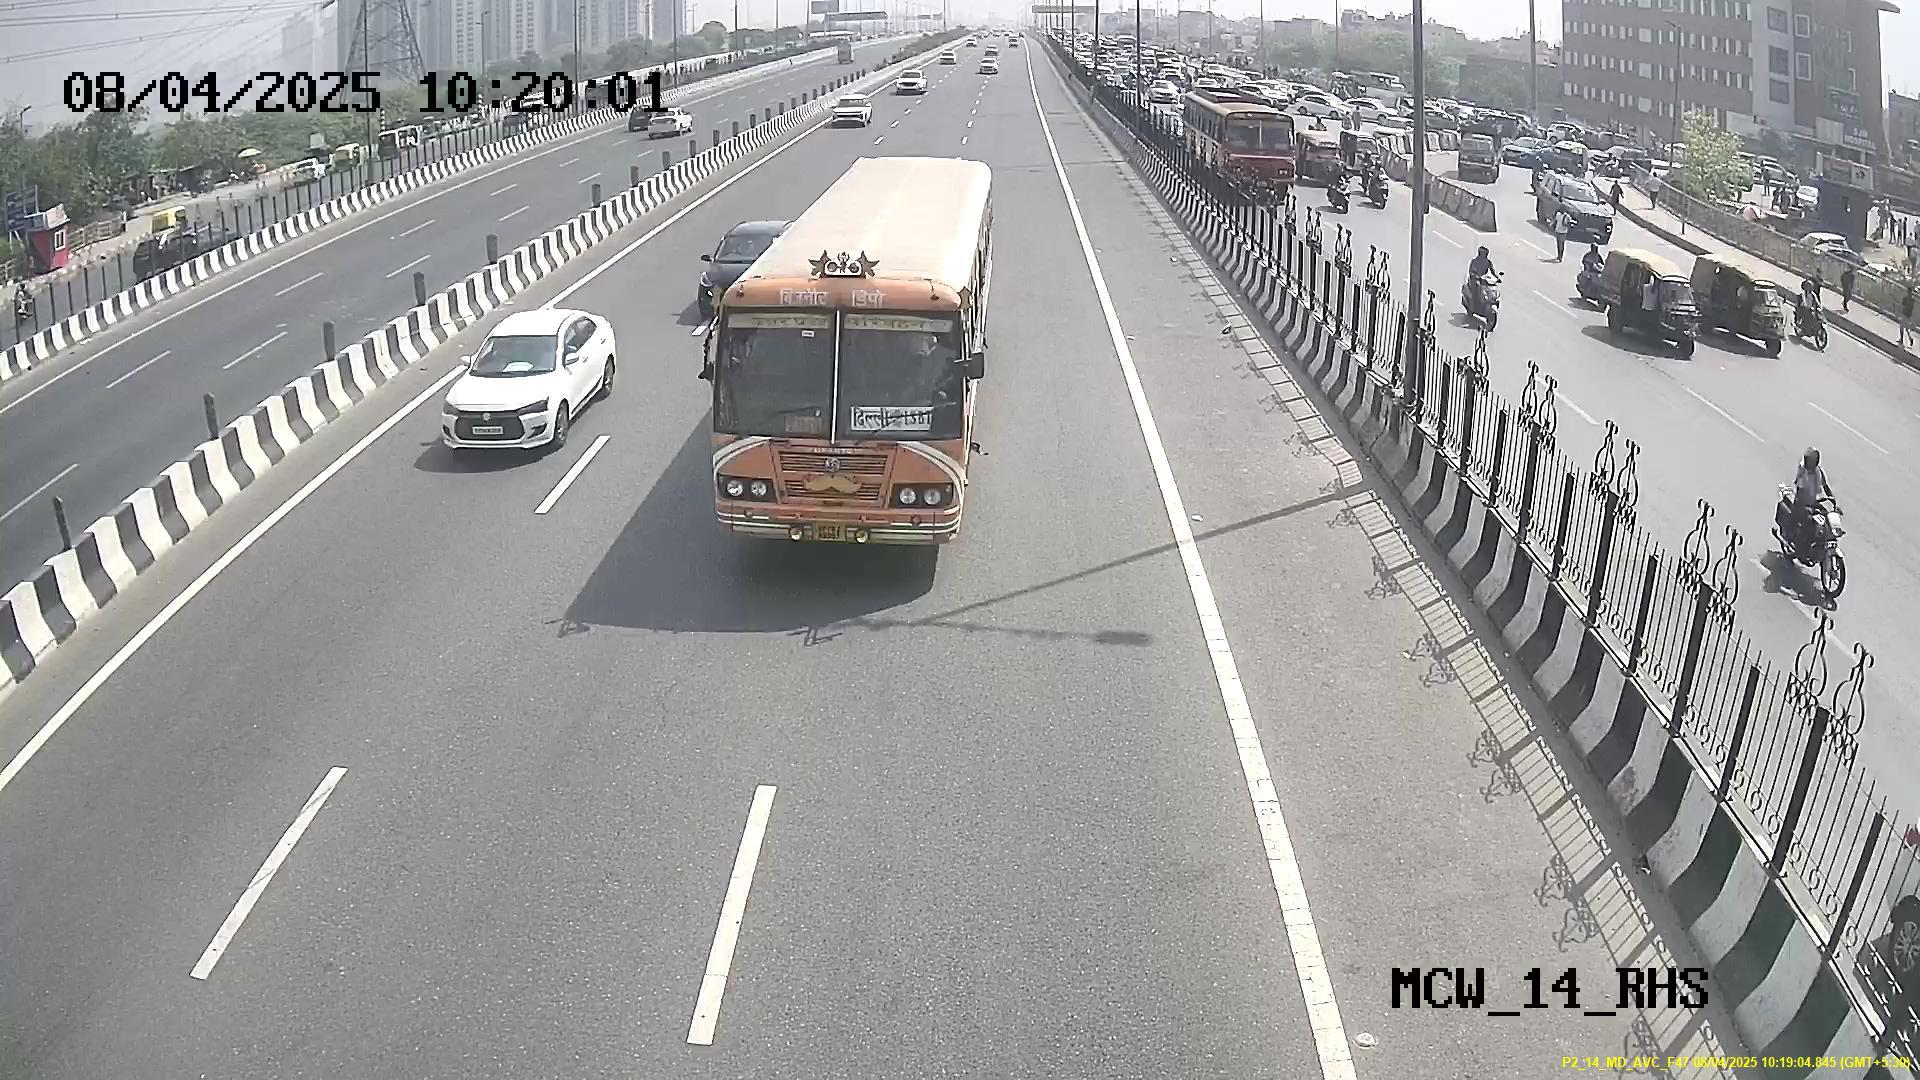bus: (717, 236, 981, 550)
car: (439, 306, 617, 456)
